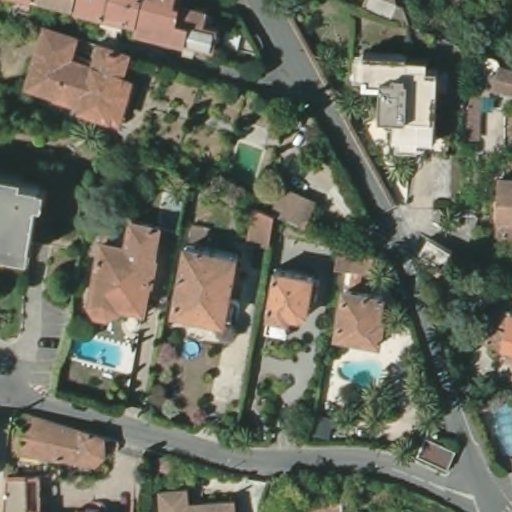pool: (69, 334, 131, 375), (486, 388, 512, 461), (334, 356, 388, 390), (180, 340, 201, 358)
